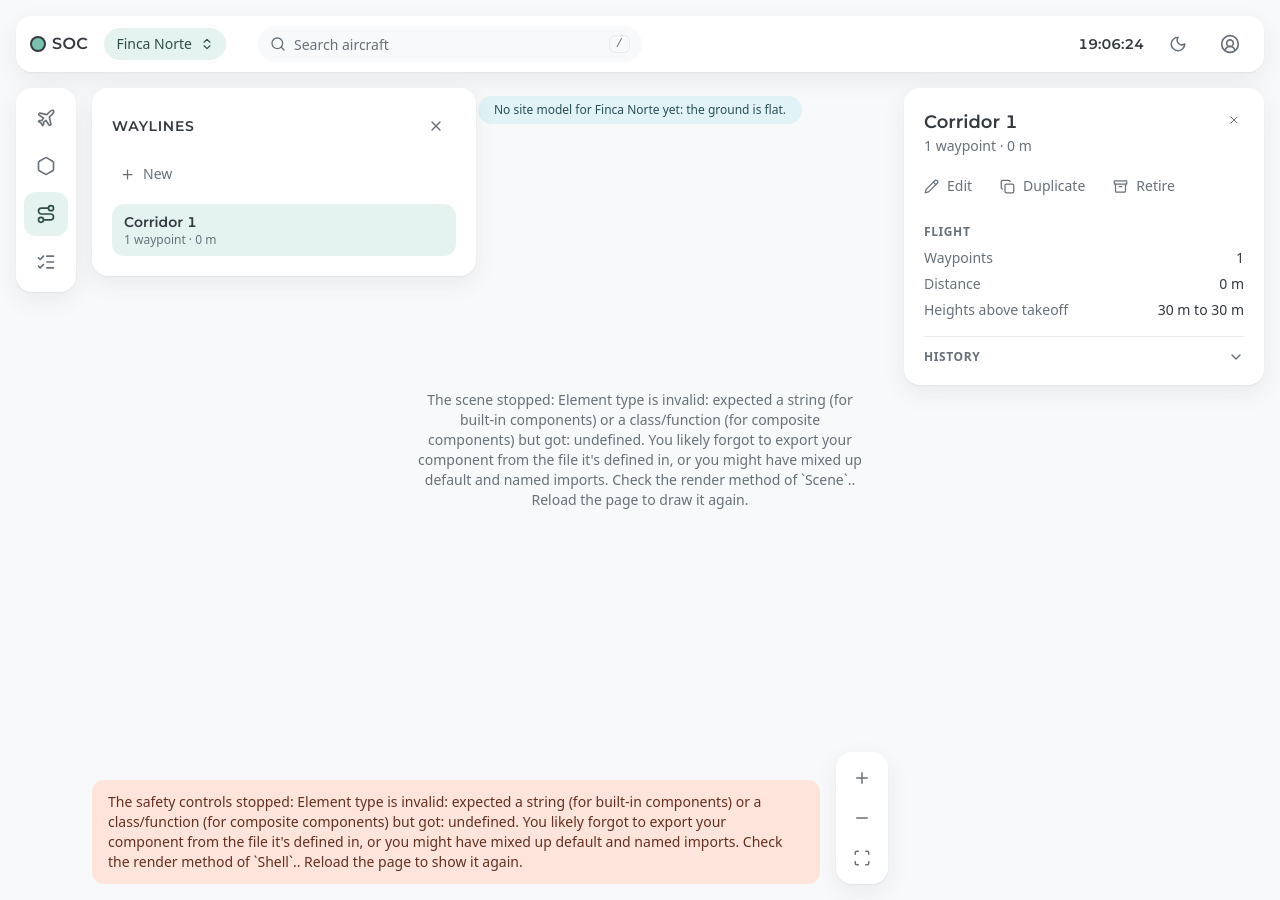
Test: changing the panel drops the selection (NFR-UX-03) › drops a wayline when the rail opens the fleet
Expected: the header is shown, [16,16,1264,72]
Expected: the heading "Corridor 1" is shown, [924,111,1018,133]
Click the button named "Fleet": [46, 118] box [24,96,68,140]
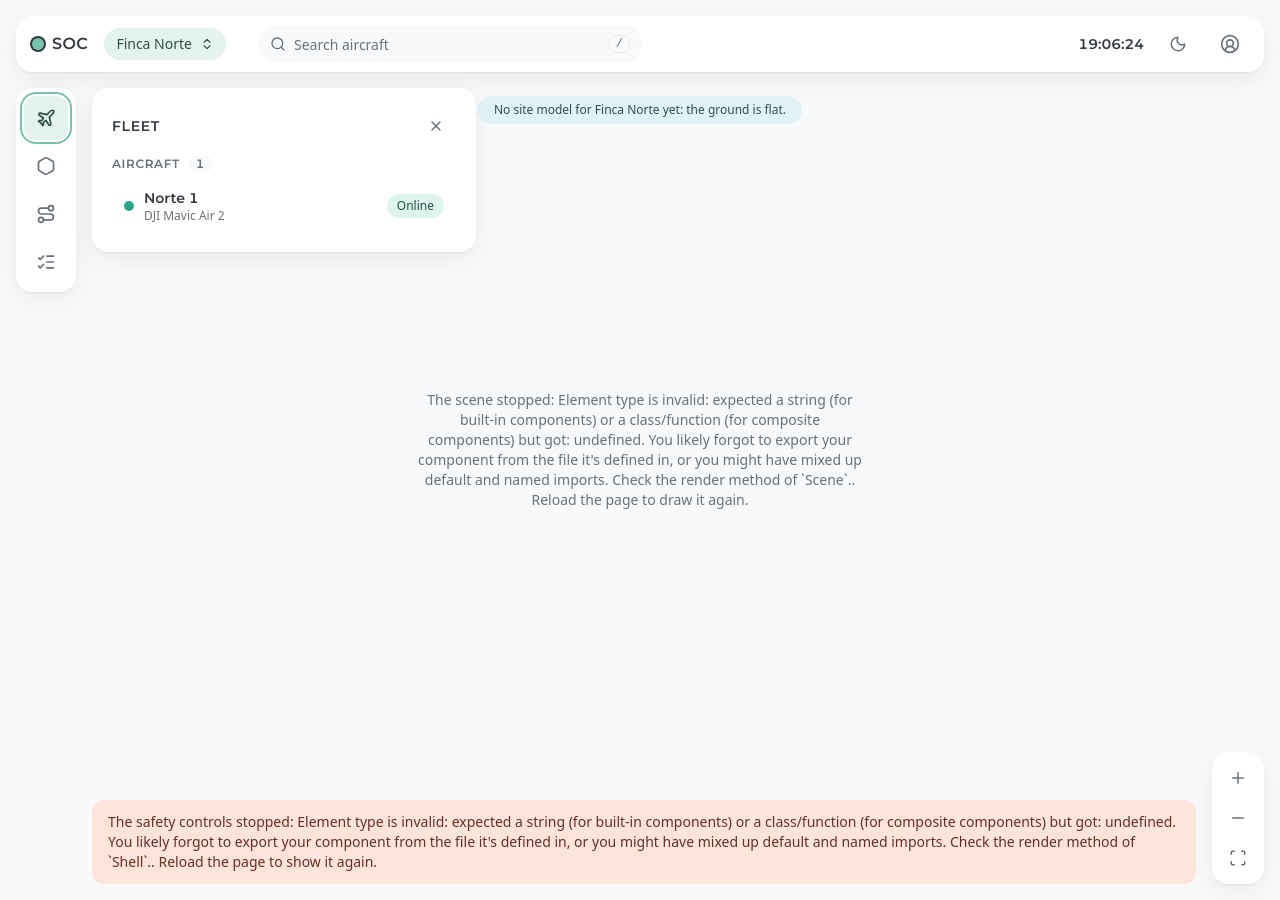
Now the heading "Fleet" is shown, box [112,116,160,136]
Now the button "Inspector" is gone
